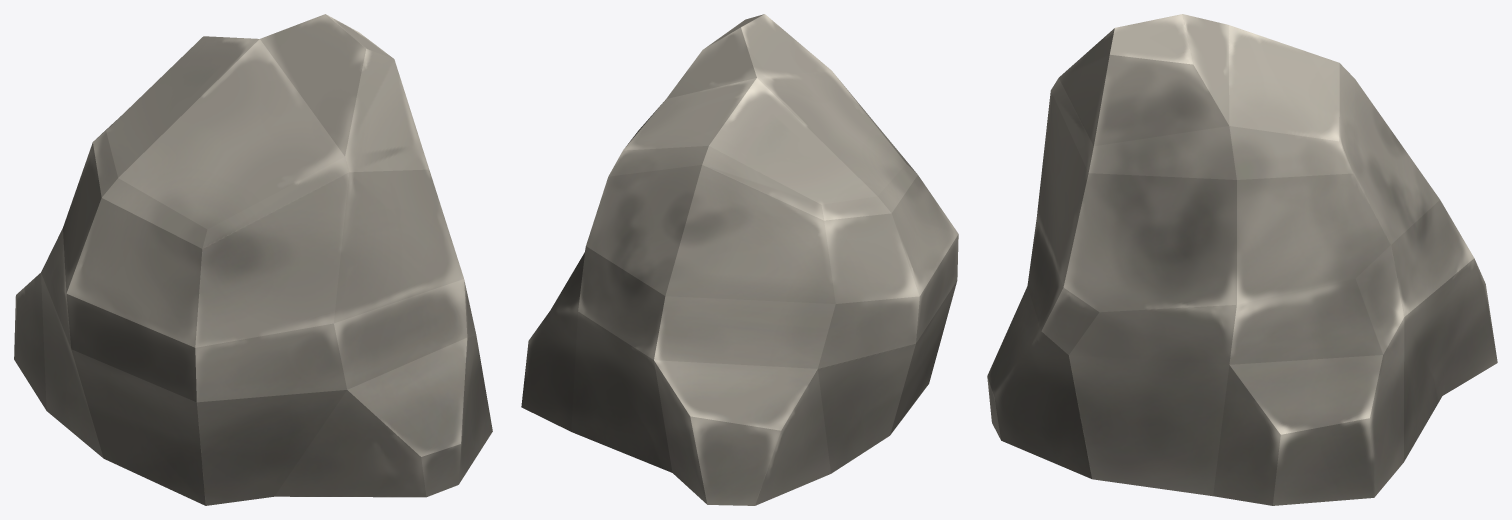
File: crystal_12.glb
3 renders of one model, left to right at view 1: azimuth 30°, elevation 25°; view 2: azimuth 150°, elevation 25°; view 3: azimuth 270°, elevation 25°, orthographic. The views are drawn at different scales.
Visible parts, largest first — view 1: crystal_12; view 2: crystal_12; view 3: crystal_12.
Boxes of the visible parts, x1,y1,x2,y2 form: crystal_12: [14, 14, 492, 505]; crystal_12: [521, 14, 958, 505]; crystal_12: [987, 14, 1497, 505].
Size of the model in its own units: 1.17 by 1.13 by 1.28.
Materials: 1 (1 with a texture image).
